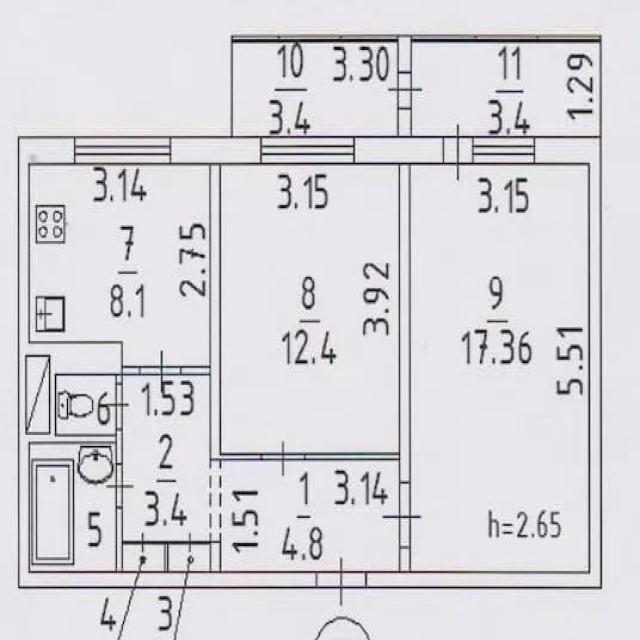Bathrooms: (31, 443, 114, 571), (55, 376, 115, 434)
Corridors: (123, 376, 399, 571), (412, 42, 598, 136), (235, 44, 397, 133), (124, 546, 163, 570), (170, 546, 209, 570)
Doors: (315, 553, 368, 606), (382, 482, 423, 548), (140, 348, 182, 393), (443, 122, 473, 183), (260, 439, 306, 476), (388, 72, 425, 110), (106, 464, 135, 509), (106, 383, 130, 429), (127, 531, 164, 554), (175, 532, 209, 553)
LBwalls: (171, 135, 261, 164), (355, 136, 443, 165), (49, 341, 124, 375), (535, 135, 601, 167), (18, 135, 74, 166)
Offices: (412, 166, 588, 570), (221, 164, 398, 451), (30, 166, 208, 366)
Walls: (17, 168, 317, 589), (367, 168, 602, 589), (305, 165, 411, 483), (181, 164, 262, 462), (231, 35, 602, 42), (115, 507, 128, 570), (398, 36, 411, 72), (163, 540, 175, 573), (398, 109, 412, 137), (210, 541, 222, 572), (28, 341, 50, 357), (50, 375, 55, 436), (230, 42, 233, 136), (123, 365, 140, 376), (600, 42, 602, 135), (116, 375, 123, 385)
Windows: (73, 135, 171, 164), (260, 135, 355, 164), (472, 135, 535, 165)
